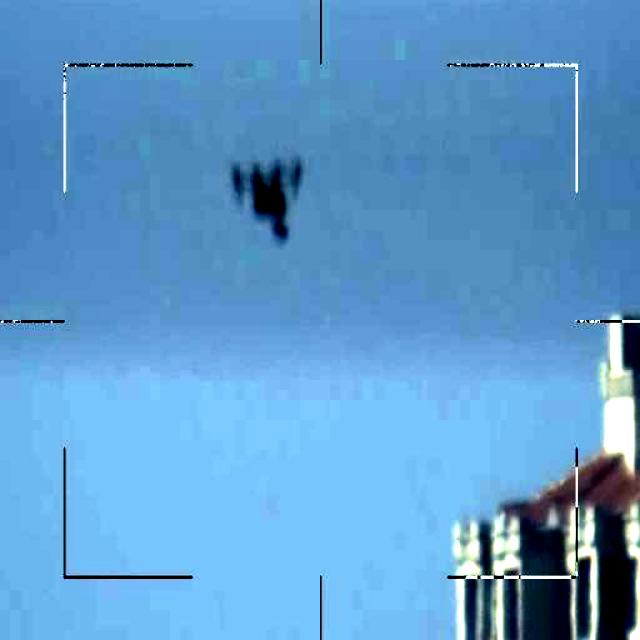bird: (226, 155, 306, 246)
